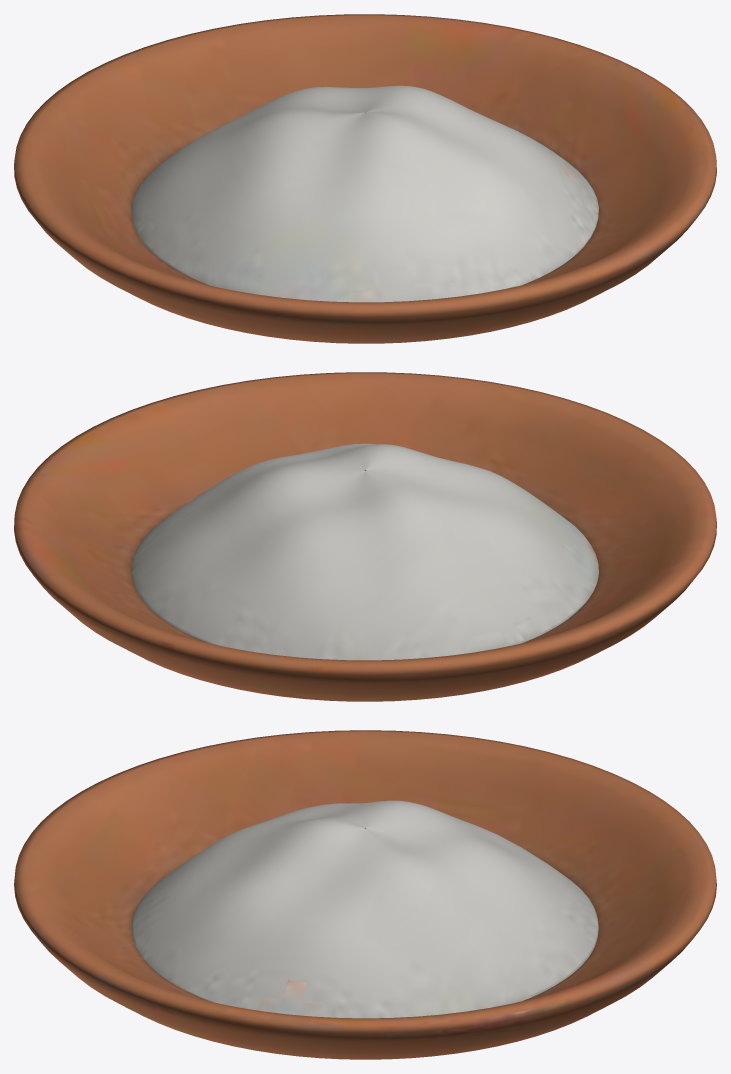
The model's file is white_lead.glb.
3 views of the same model, one above another, from view 1: azimuth 30°, elevation 25°; view 2: azimuth 150°, elevation 25°; view 3: azimuth 270°, elevation 25° (orthographic).
Parts seen in each view (by area): view 1: white_lead; view 2: white_lead; view 3: white_lead.
Part boxes in pixels (bbox=[...]): white_lead: bbox=[14, 14, 716, 343]; white_lead: bbox=[14, 372, 716, 701]; white_lead: bbox=[14, 730, 716, 1059].
Size of the model in its own units: 0.0901 by 0.0216 by 0.0901.
1 material, 1 textured.
